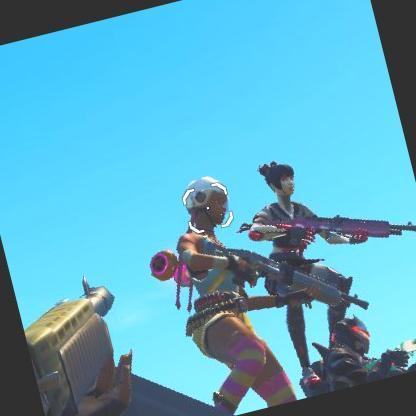person: (158, 162, 290, 402), (244, 151, 349, 350), (317, 314, 396, 388)
